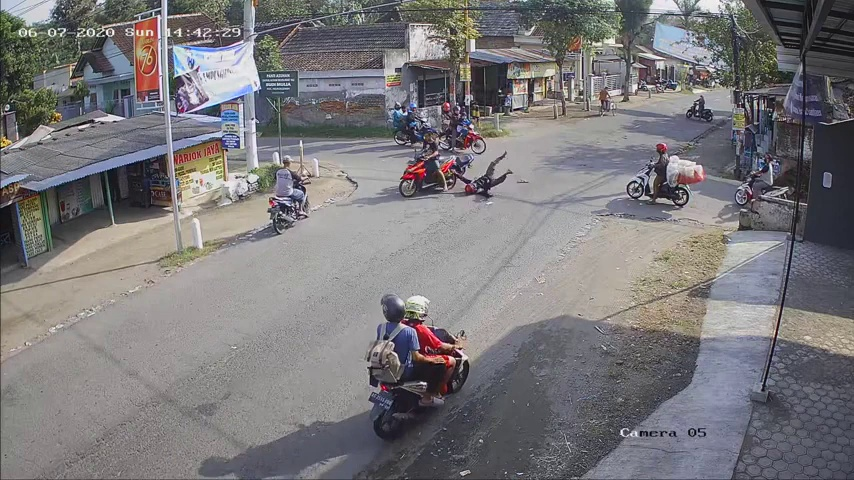motorbike: (371, 291, 479, 438), (627, 144, 701, 208), (396, 135, 455, 199), (266, 161, 314, 231), (437, 102, 487, 156), (392, 102, 437, 144), (687, 96, 714, 125)
